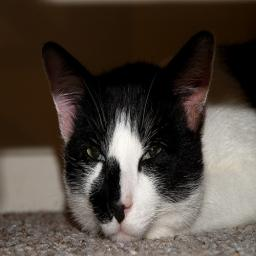catnose: (108, 199, 133, 224)
